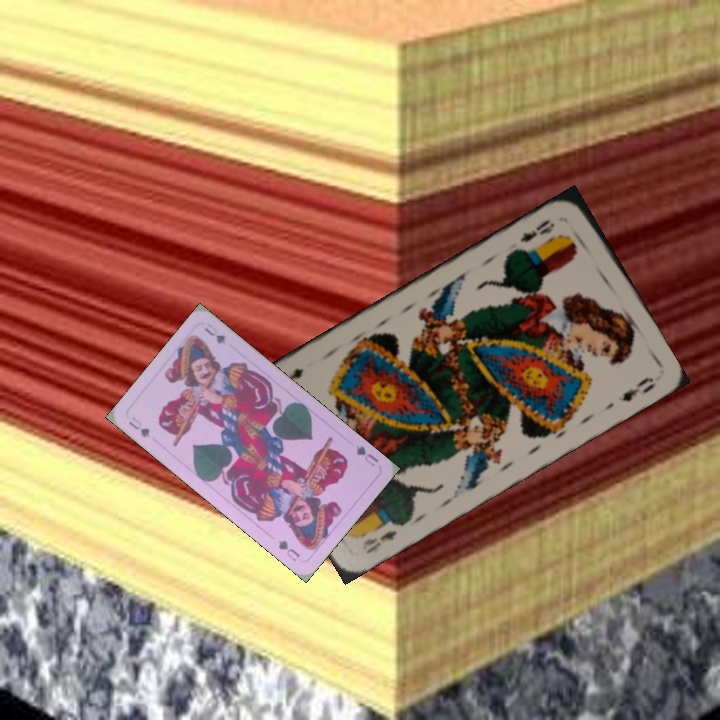EO: (358, 526, 400, 557), (516, 215, 557, 245)
GU: (352, 441, 381, 469), (124, 413, 153, 441)
